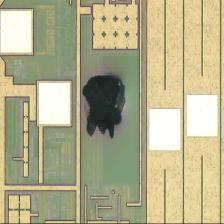PARTICLE: (82, 74, 132, 144)
